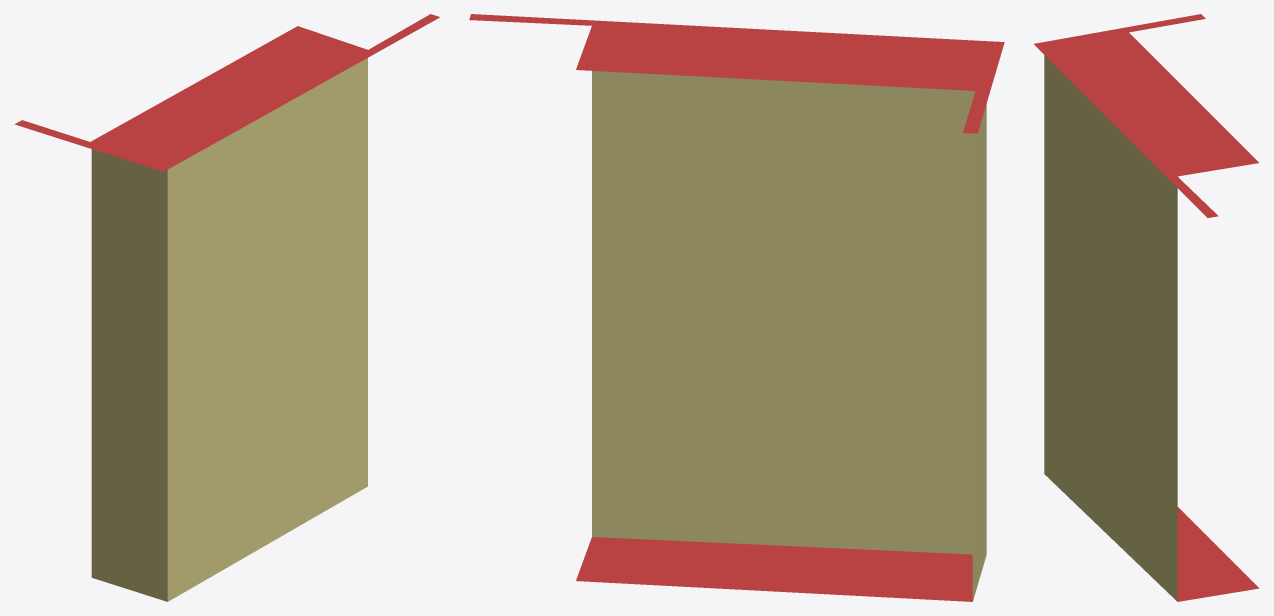
The picture shows the model from 3 angles, left to right: view 1: azimuth 30°, elevation 25°; view 2: azimuth 150°, elevation 25°; view 3: azimuth 270°, elevation 25°; orthographic projection. The views are drawn at different scales.
Size of the model in its own units: 9.97 by 4.66 by 9.68.
